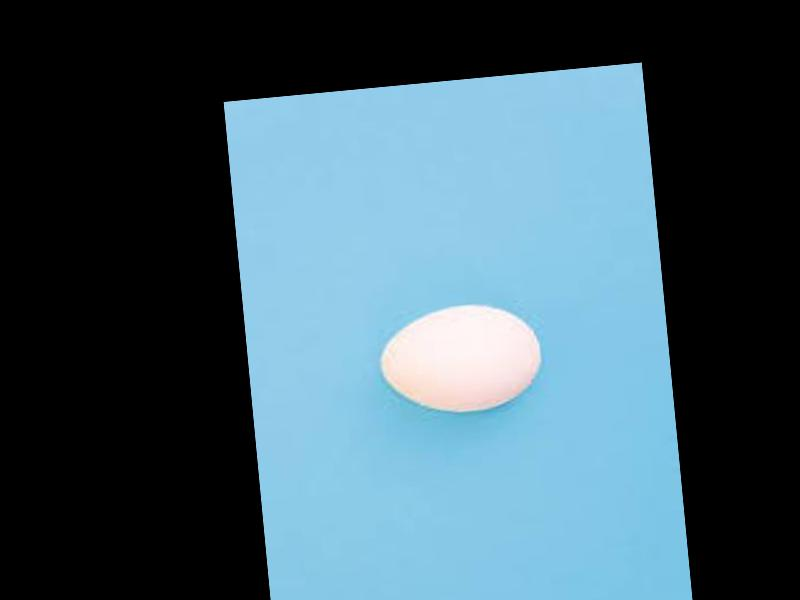Eggs: (373, 300, 545, 420)
